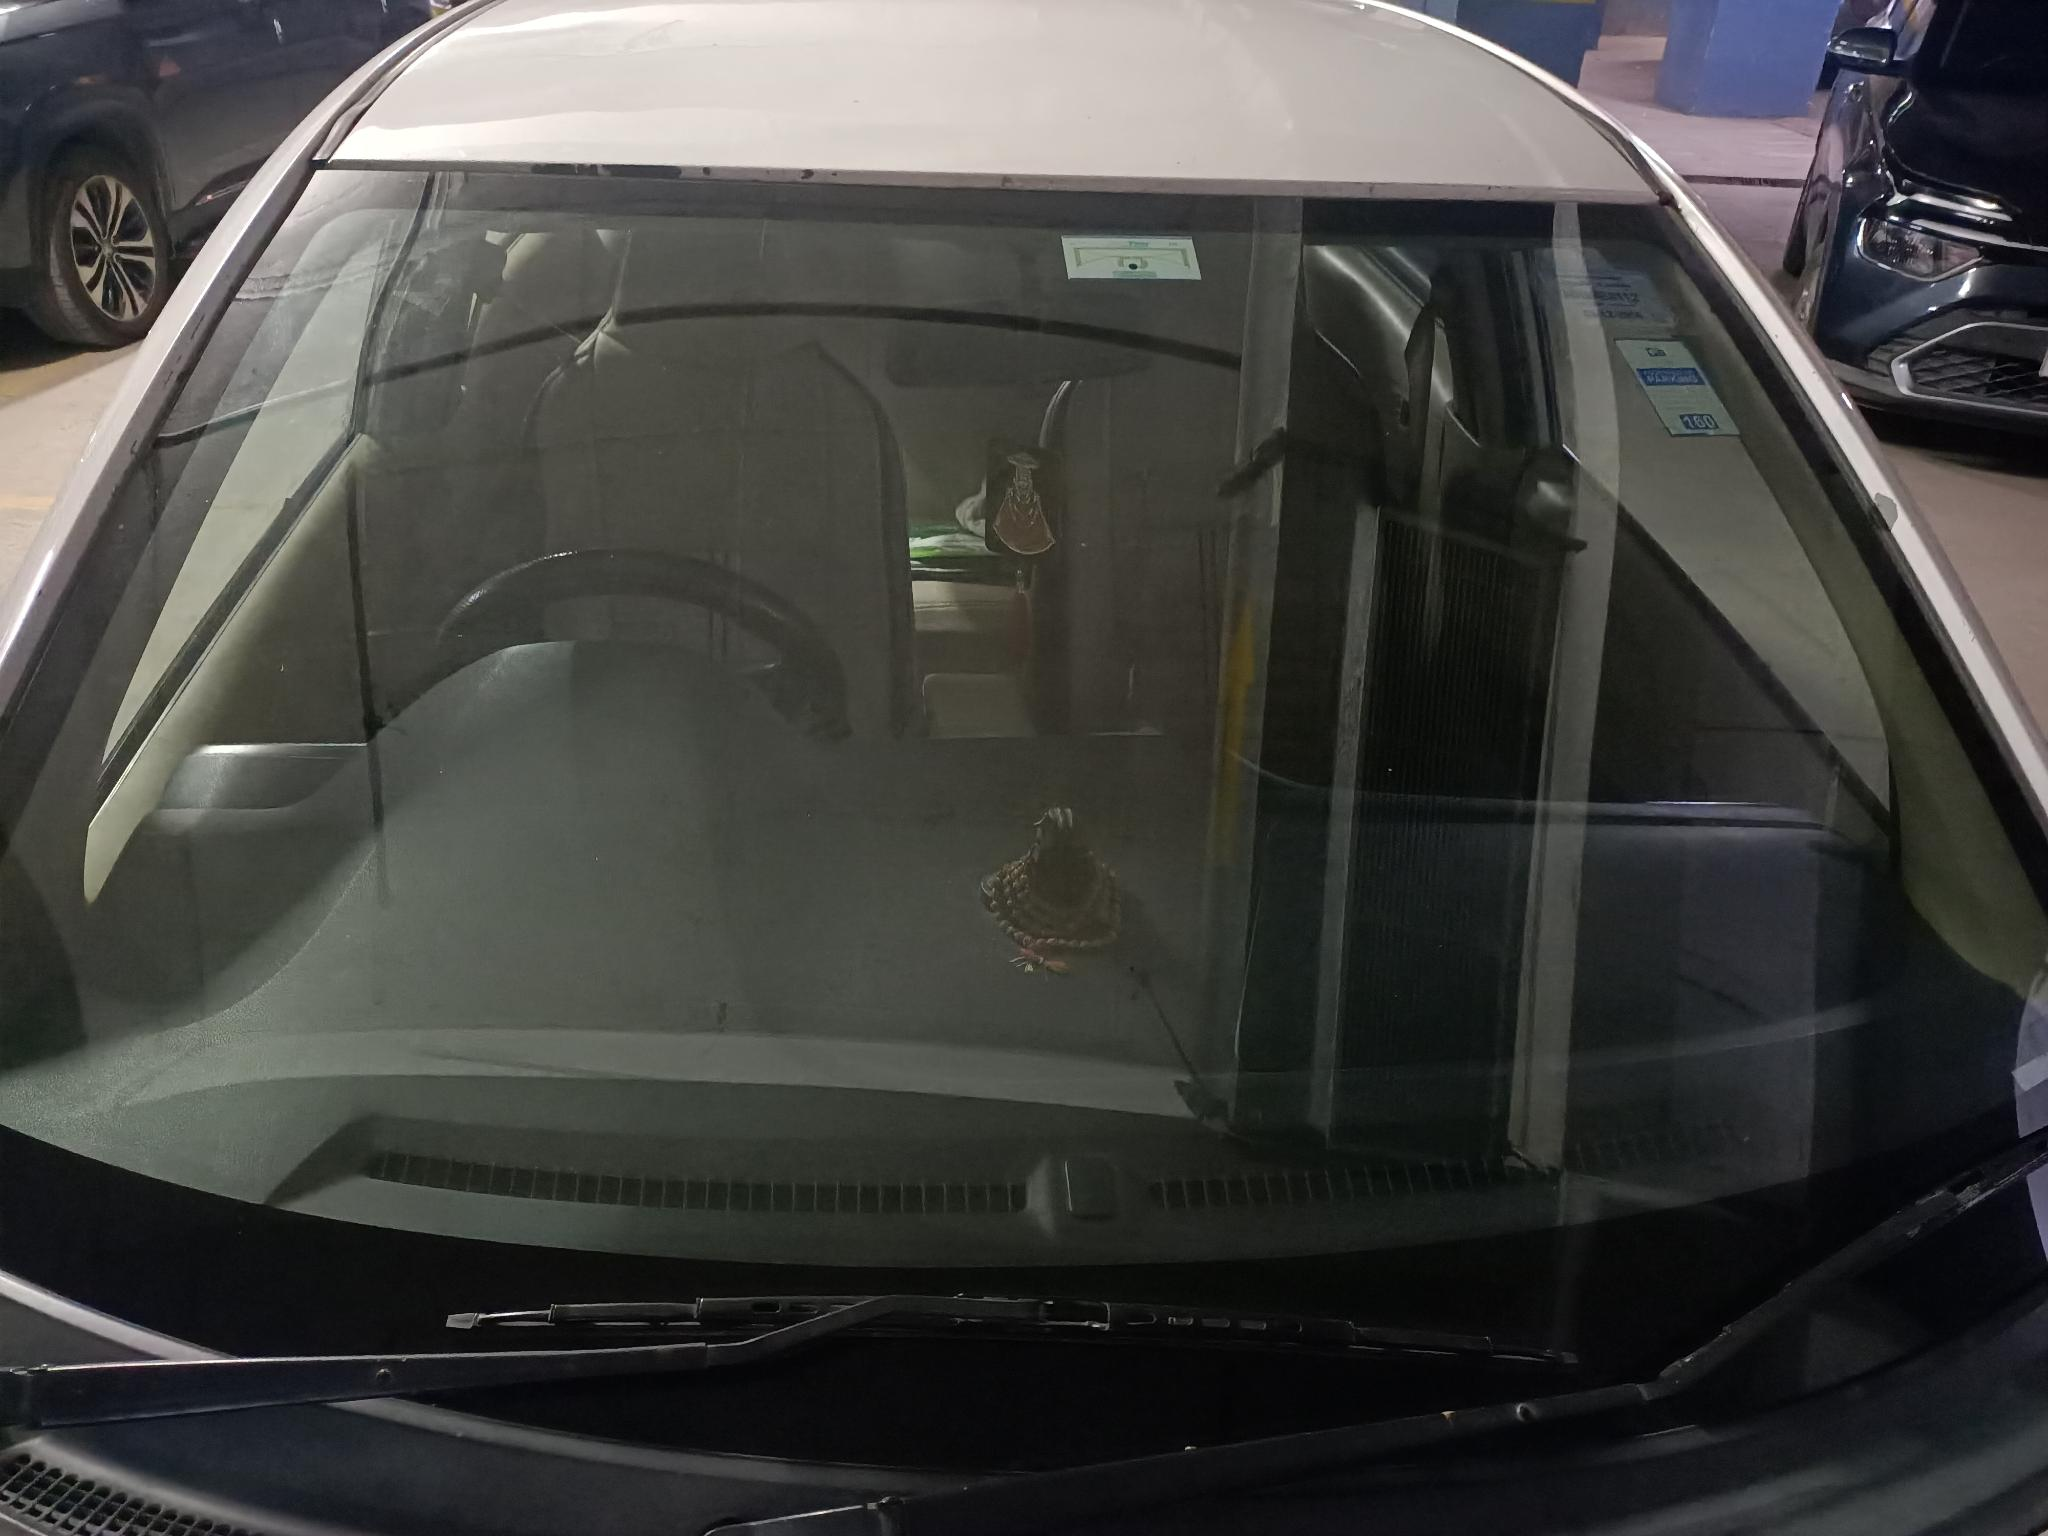FastTag: (1043, 224, 1230, 305)
not a FastTag: (1598, 310, 1737, 439)
